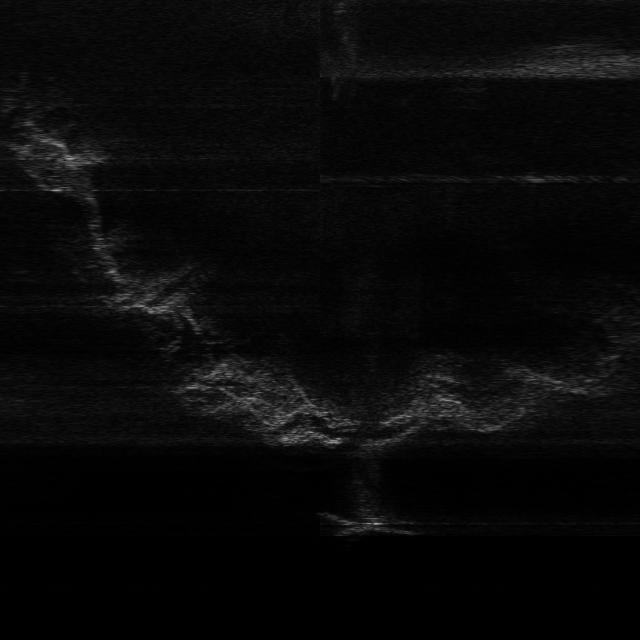plane: (316, 509, 426, 538)
